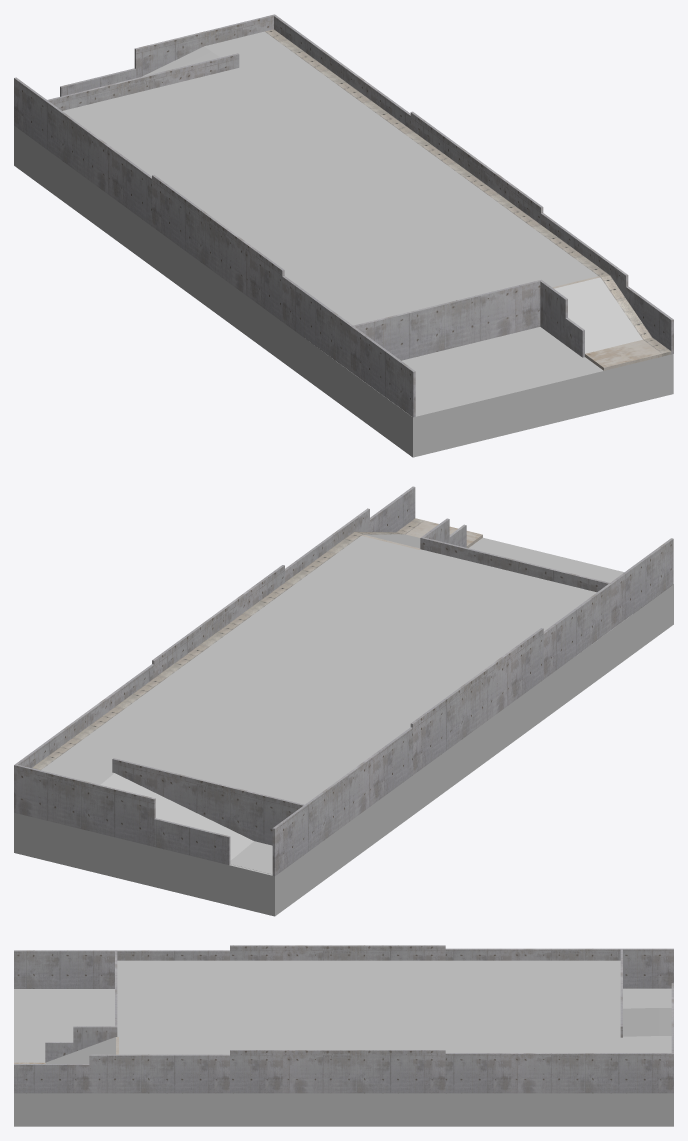
3 views of the same model, one above another, from view 1: azimuth 30°, elevation 25°; view 2: azimuth 150°, elevation 25°; view 3: azimuth 270°, elevation 25° (orthographic). The views are drawn at different scales.
Visible parts, largest first — view 1: BB_020_f2; view 2: BB_020_f2; view 3: BB_020_f2.
Part boxes in pixels (left/top/right/bottom): BB_020_f2: left=14, top=14, right=673, bottom=457; BB_020_f2: left=14, top=486, right=673, bottom=916; BB_020_f2: left=14, top=945, right=673, bottom=1126.
Size of the model in its own units: 13.6 by 4.55 by 36.
